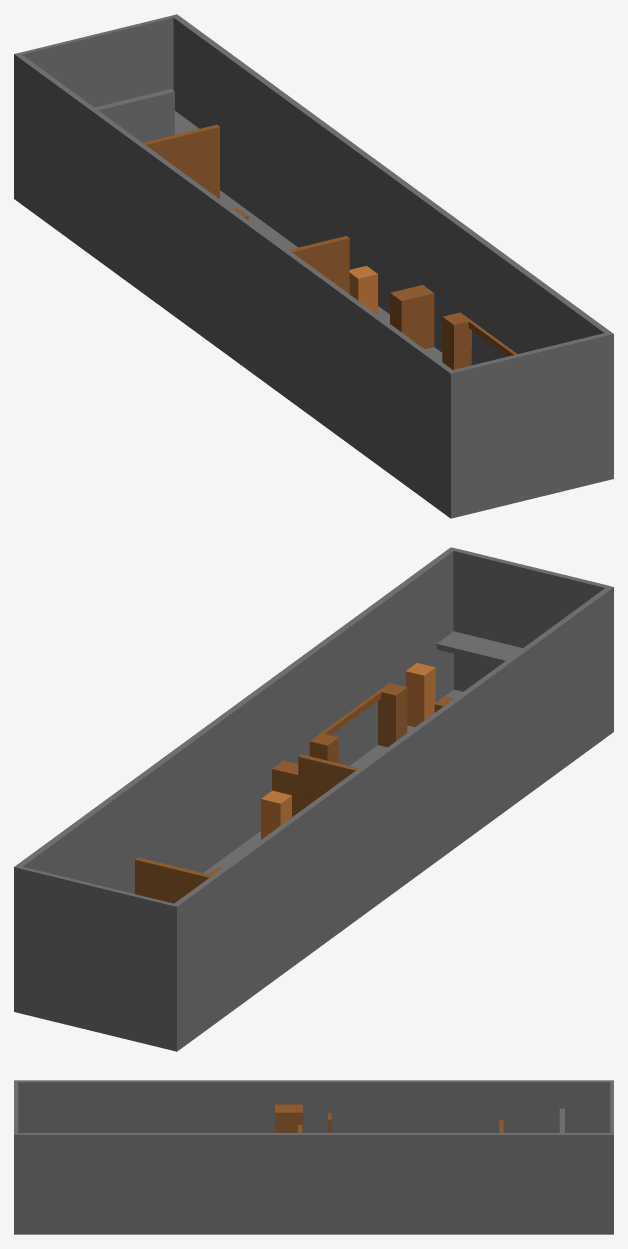
File: ParkourLevel4.fbx
The picture shows the model from 3 angles, top to bottom: view 1: azimuth 30°, elevation 25°; view 2: azimuth 150°, elevation 25°; view 3: azimuth 270°, elevation 25°; orthographic projection. The views are drawn at different scales.
Parts seen in each view (by area): view 1: Cube, Cube.012, Cube.005, Cube.004, Cube.008, Cube.014; view 2: Cube, Cube.004, Cube.012, Cube.008, Cube.002, Cube.014, Cube.005; view 3: Cube, Cube.010.
Boxes of the visible parts, bbox=[...] form: Cube: bbox=[14, 14, 613, 518]; Cube.012: bbox=[143, 124, 219, 198]; Cube.005: bbox=[390, 285, 434, 349]; Cube.004: bbox=[442, 312, 517, 369]; Cube.008: bbox=[289, 236, 349, 293]; Cube.014: bbox=[349, 266, 377, 314]; Cube: bbox=[14, 547, 613, 1051]; Cube.004: bbox=[309, 683, 407, 763]; Cube.012: bbox=[135, 857, 212, 903]; Cube.008: bbox=[298, 754, 358, 812]; Cube.002: bbox=[405, 663, 435, 726]; Cube.014: bbox=[261, 790, 291, 839]; Cube.005: bbox=[272, 760, 298, 816]; Cube: bbox=[14, 1080, 613, 1234]; Cube.010: bbox=[275, 1104, 302, 1132].
Bounding box in the file's own units: 1652 × 1404 × 7666.
